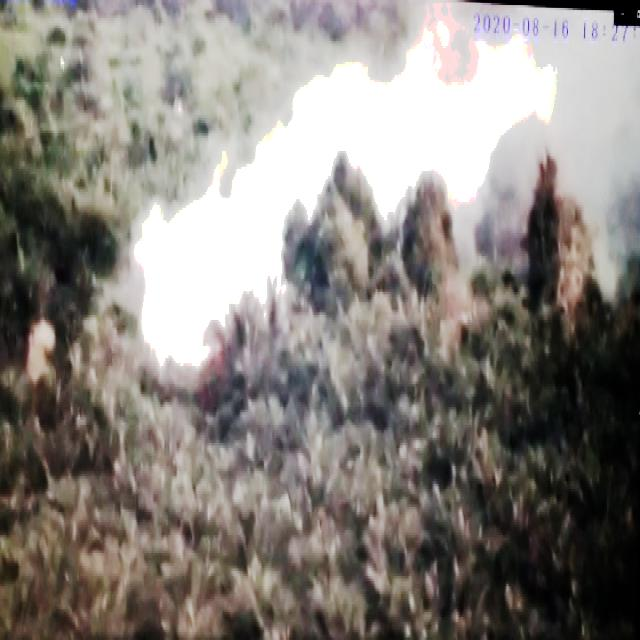asap: (128, 60, 633, 393)
